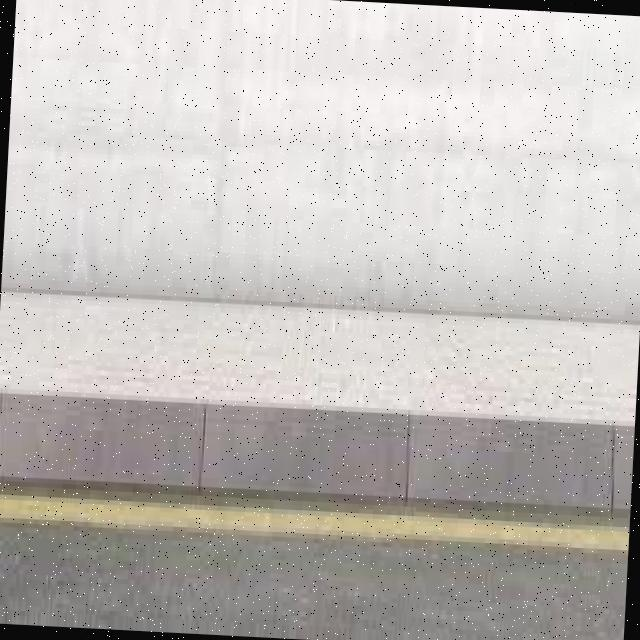curb: (197, 371, 422, 522), (410, 389, 629, 525), (1, 371, 215, 483)
